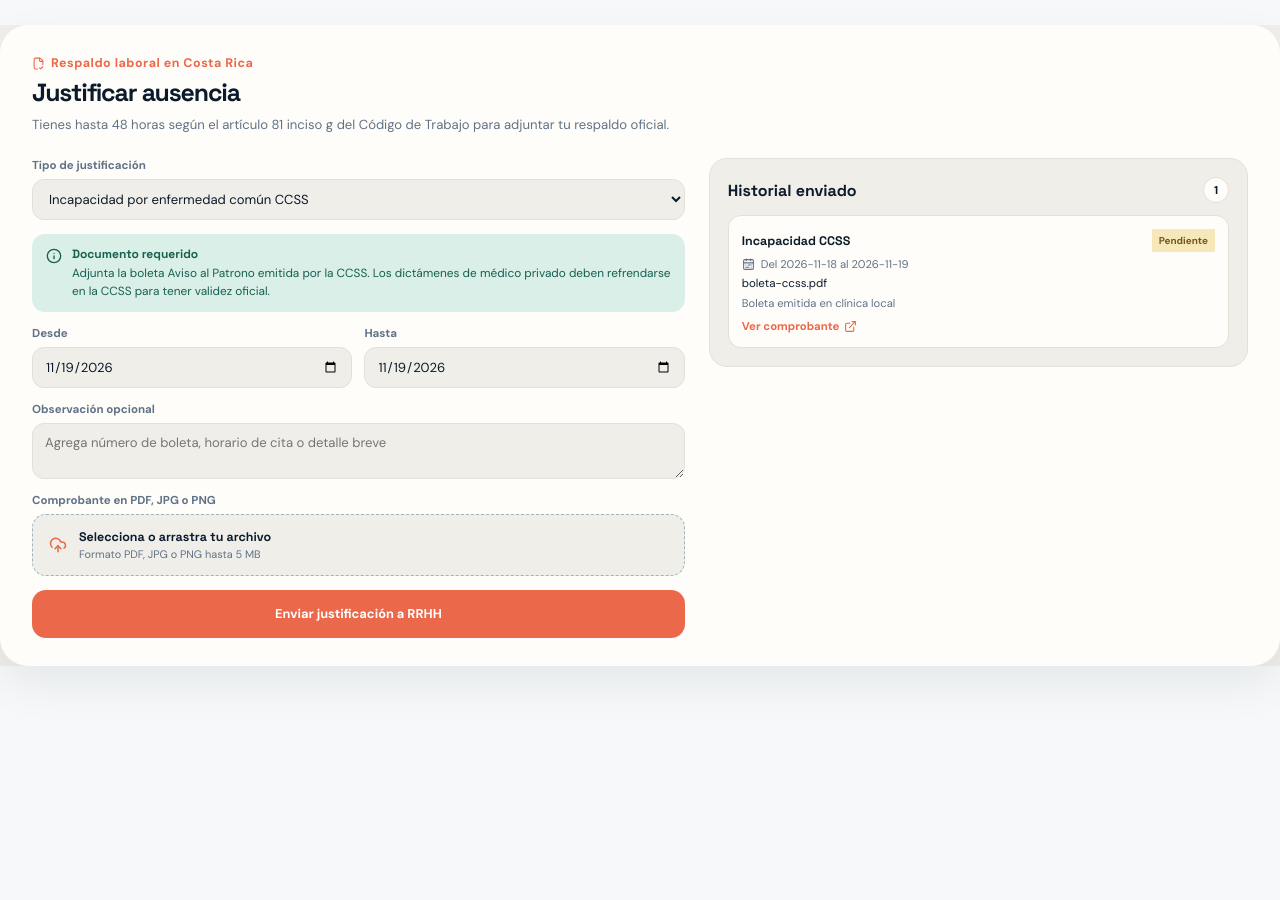
Test: AbsenceJustificationPanel y DocumentsInbox › cambia la guía dinámica al seleccionar duelo y envía justificación con fechas pasadas recientes
Later steps or results of the test are not shown.
expect the text "boleta-ccss.pdf" is shown: met, box [742,276,827,292]
Select "Duelo por fallecimiento de familiar" in the dropdown labelled "Tipo de justificación" at (358, 200), box [32,180,685,220]
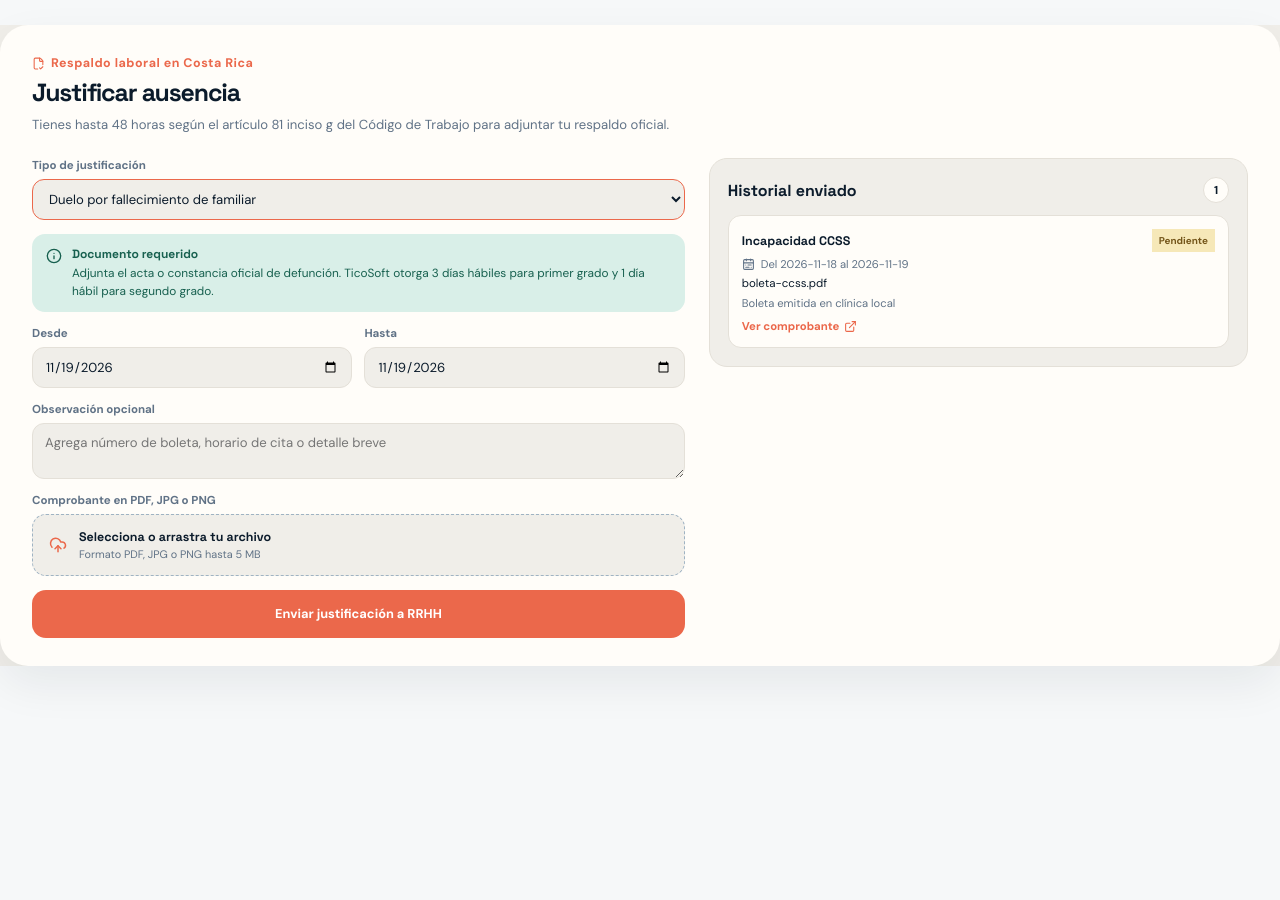
expect the text "3 días hábiles para primer grado" is shown: met, box [72,266,645,299]
